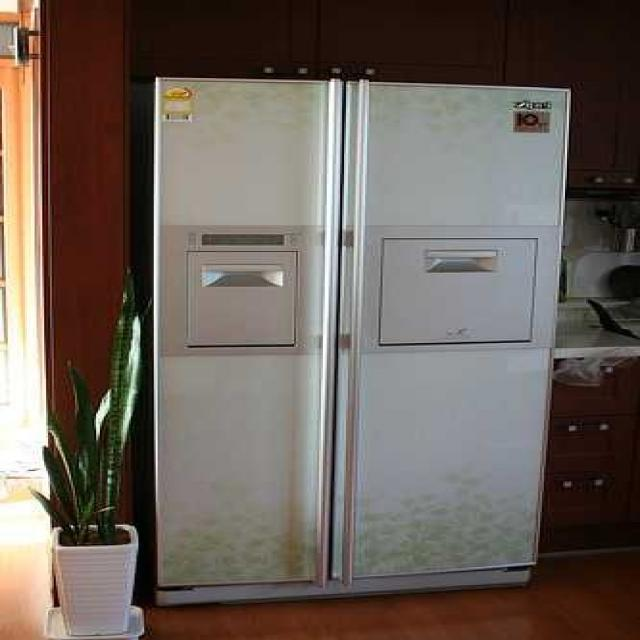refrigerator: (150, 75, 573, 585)
